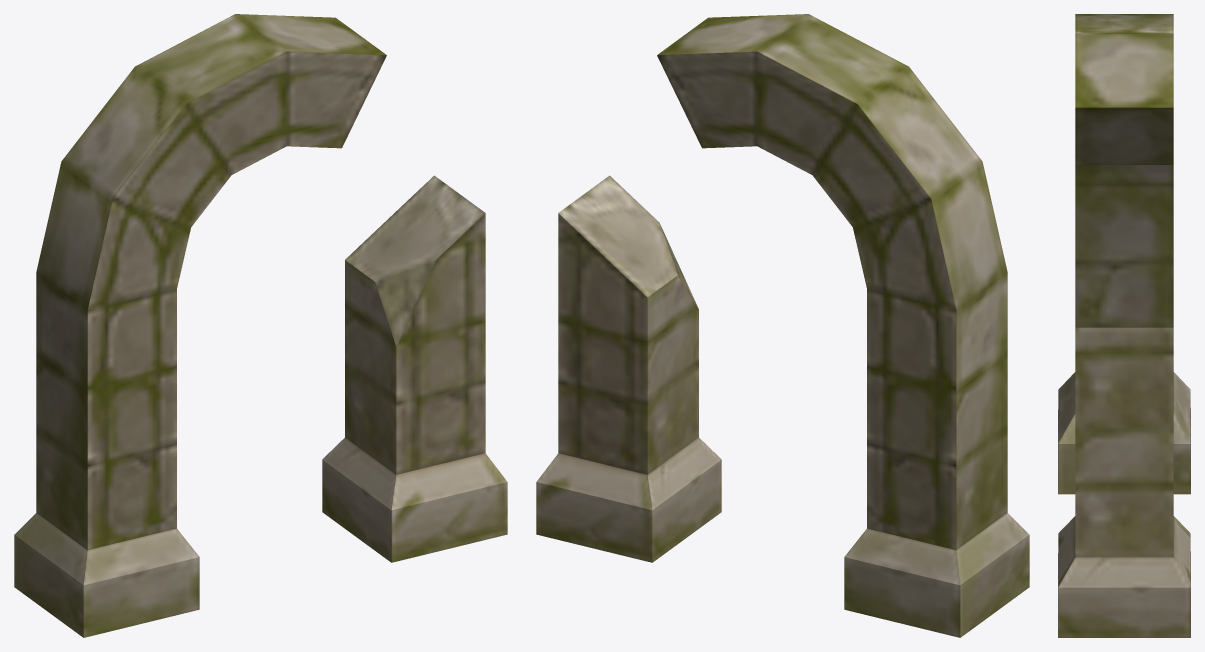
Rendered from swamp_temple_1.FBX.
The picture shows the model from 3 angles, left to right: view 1: azimuth 30°, elevation 25°; view 2: azimuth 150°, elevation 25°; view 3: azimuth 270°, elevation 25°; orthographic projection. The views are drawn at different scales.
Visible parts, largest first — view 1: swamp_temple_1; view 2: swamp_temple_1; view 3: swamp_temple_1.
Part boxes in pixels (bbox=[...]): swamp_temple_1: bbox=[14, 14, 507, 637]; swamp_temple_1: bbox=[536, 14, 1029, 637]; swamp_temple_1: bbox=[1058, 14, 1190, 637].
Bounding box in the file's own units: 114 × 136 × 32.27.
